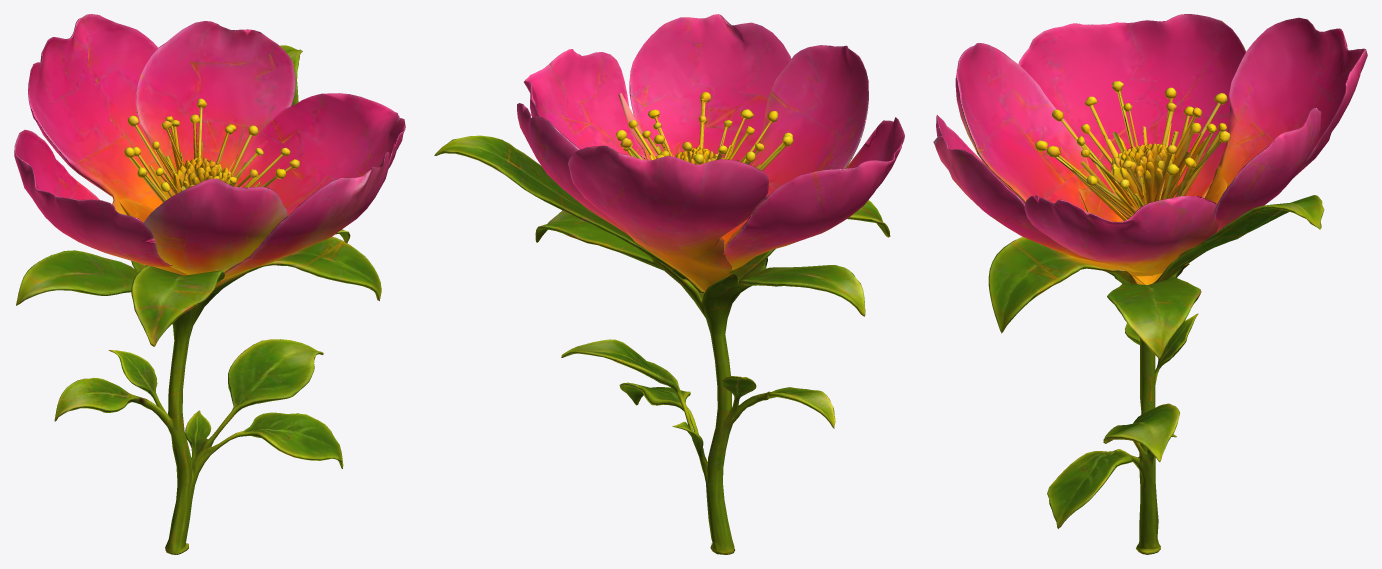
Rendered from peony_pink.glb.
3 views of the same model, side by side, from view 1: azimuth 30°, elevation 25°; view 2: azimuth 150°, elevation 25°; view 3: azimuth 270°, elevation 25° (orthographic). The views are drawn at different scales.
Visible parts, largest first — view 1: geometry_0; view 2: geometry_0; view 3: geometry_0.
Part boxes in pixels (bbox=[...]): geometry_0: bbox=[14, 14, 405, 554]; geometry_0: bbox=[434, 14, 904, 554]; geometry_0: bbox=[933, 14, 1367, 554].
Bounding box in the file's own units: 0.77 × 0.9507 × 0.7397.
Materials: 1 (1 with a texture image).
